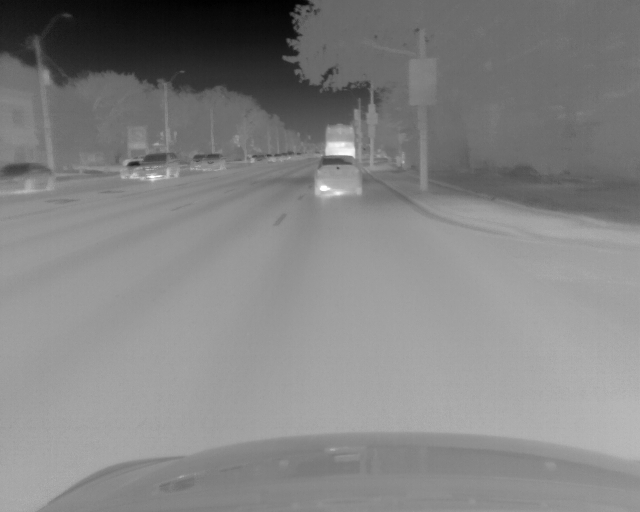car: (314, 155, 363, 198), (1, 163, 54, 195), (141, 152, 181, 182), (325, 124, 355, 157), (121, 160, 142, 183), (203, 153, 224, 172), (189, 155, 203, 171), (251, 155, 266, 166)
